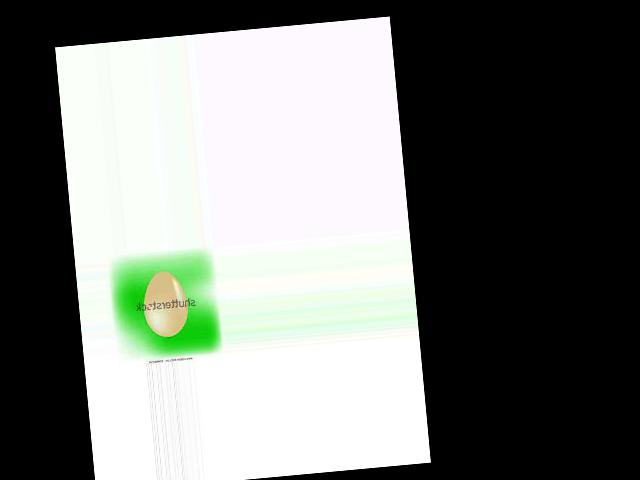egg: (140, 269, 189, 338)
